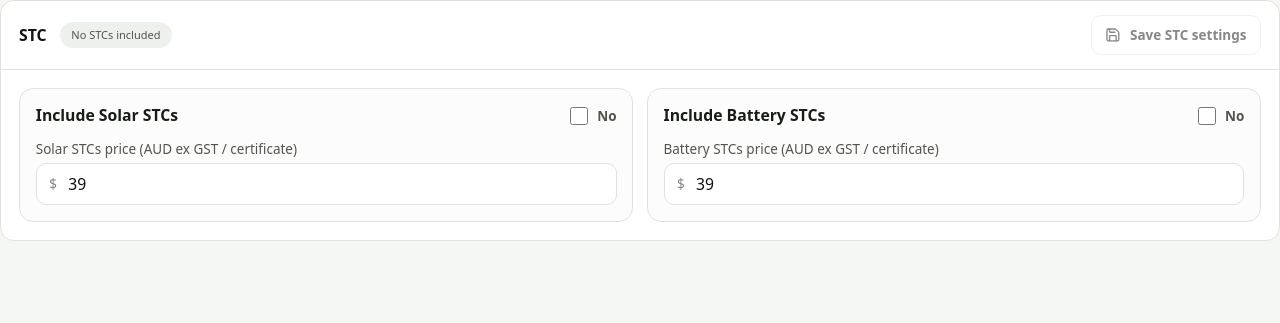
Test: CiRebateProfilePanel › allows Enter on the save button while containing Enter in an STC price input
Expected: the heading "STC" is shown, [19,24,46,46]
Click the checkbox labelled "Include Solar STCs" at (579, 116), box [570,106,588,124]
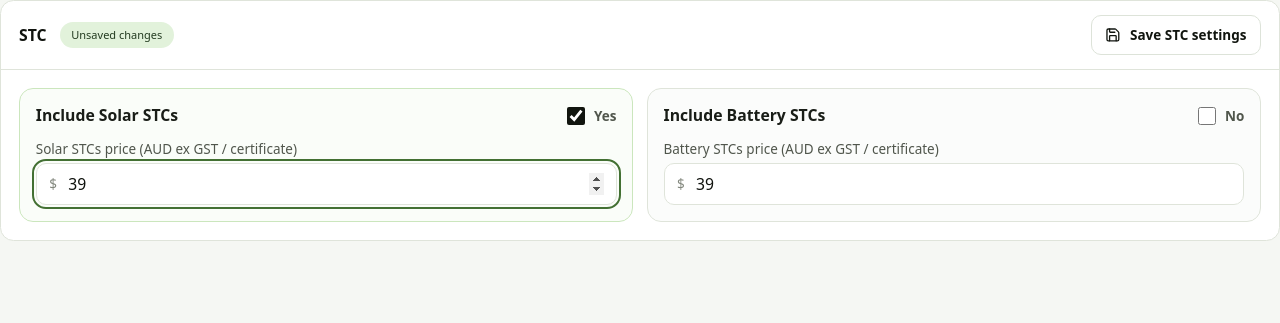
Press Enter
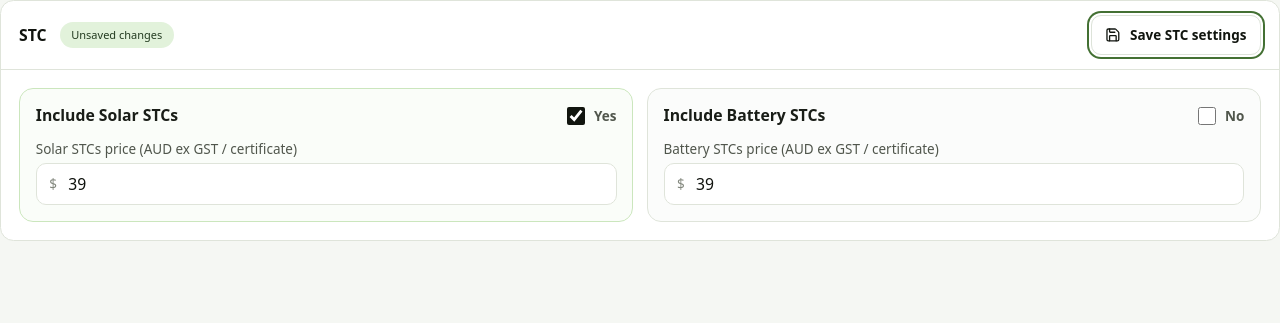
Press Enter
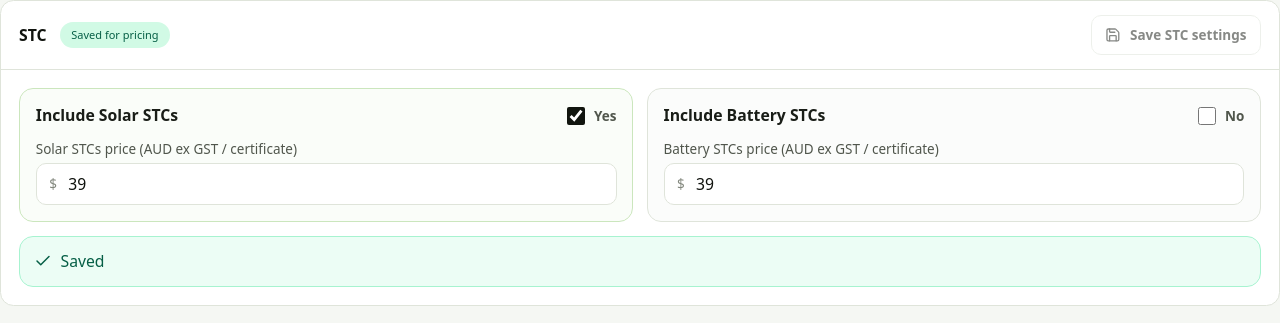
Now the text "Saved" is shown, box [19,236,1261,287]
